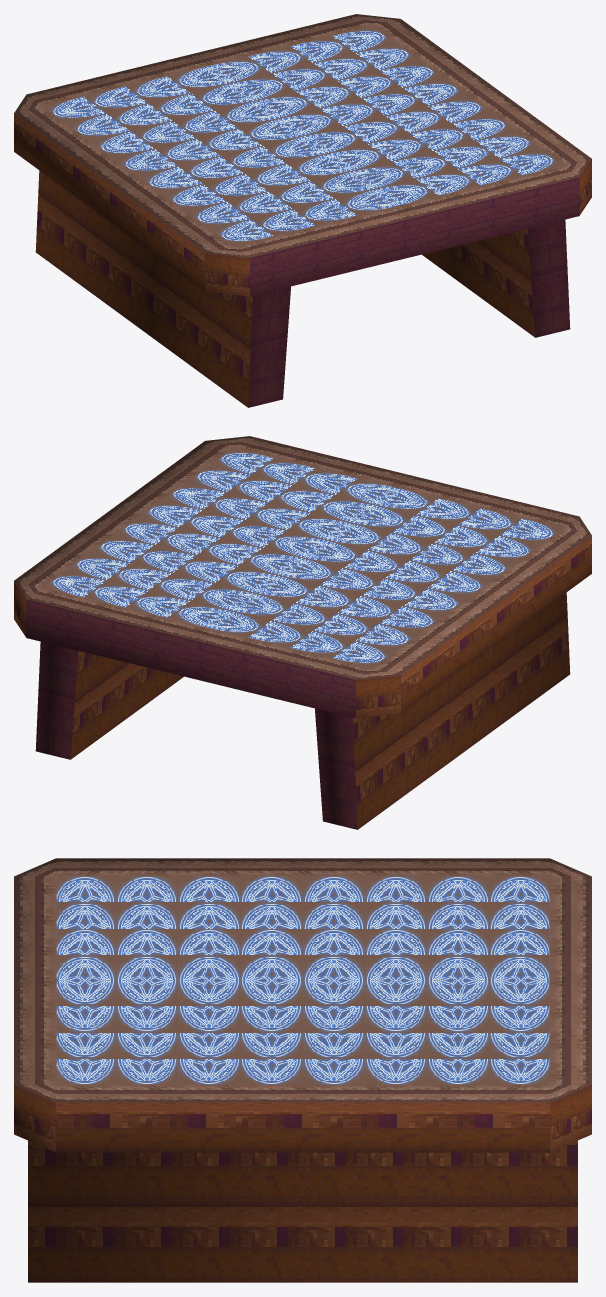
Rendered from 3133IMFY01_02.gltf.
The picture shows the model from 3 angles, top to bottom: view 1: azimuth 30°, elevation 25°; view 2: azimuth 150°, elevation 25°; view 3: azimuth 270°, elevation 25°; orthographic projection. The views are drawn at different scales.
Visible parts, largest first — view 1: 3133IMFY01_02; view 2: 3133IMFY01_02; view 3: 3133IMFY01_02.
Part boxes in pixels (x1,y1,x2,y2): 3133IMFY01_02: [14, 14, 591, 407]; 3133IMFY01_02: [14, 436, 591, 829]; 3133IMFY01_02: [14, 858, 591, 1282].
Size of the model in its own units: 1.96 by 0.75 by 1.96.
Materials: 4 (4 with a texture image).
